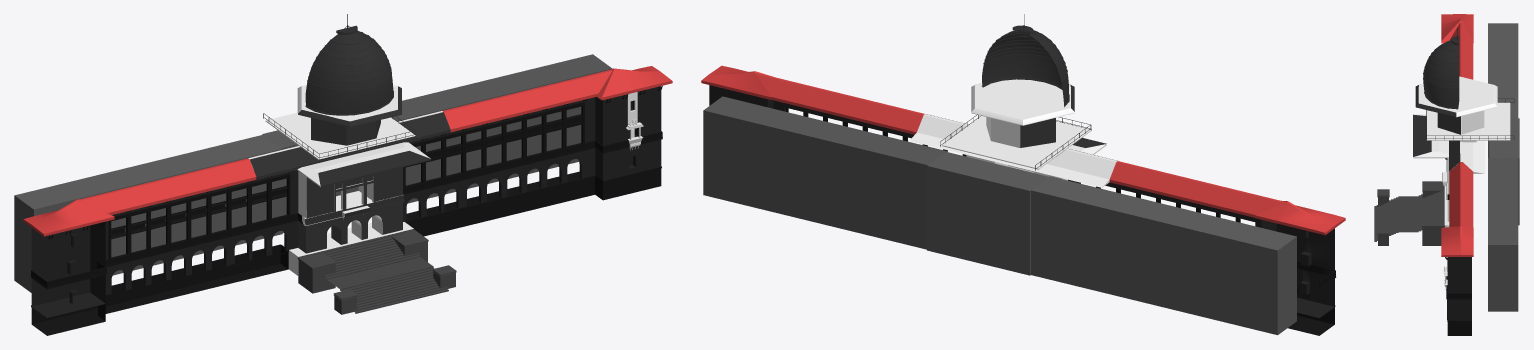
3 renders of one model, left to right at view 1: azimuth 30°, elevation 25°; view 2: azimuth 150°, elevation 25°; view 3: azimuth 270°, elevation 25°, orthographic. The views are drawn at different scales.
Parts seen in each view (by area): view 1: pasted__m6; view 2: pasted__m6; view 3: pasted__m6.
Part boxes in pixels (bbox=[...]): pasted__m6: bbox=[14, 14, 672, 335]; pasted__m6: bbox=[701, 14, 1345, 335]; pasted__m6: bbox=[1374, 14, 1519, 335].
Bounding box in the file's own units: 424 × 161 × 108.
